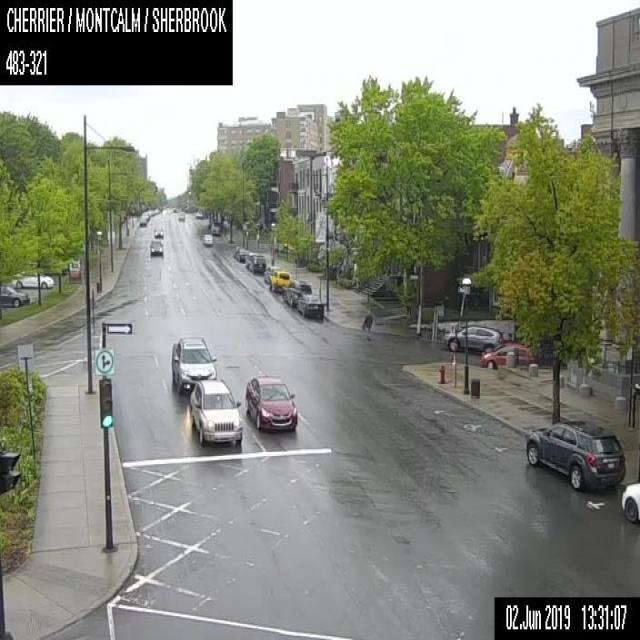pedestrian: (360, 309, 372, 342)
vehicle: (524, 417, 626, 492), (188, 377, 242, 447), (245, 374, 297, 431), (171, 335, 217, 395), (442, 322, 502, 353), (480, 342, 538, 368), (620, 476, 639, 521), (11, 268, 54, 287), (282, 280, 311, 305), (0, 284, 29, 307), (297, 294, 324, 316), (269, 269, 290, 292), (248, 254, 265, 273), (264, 265, 280, 283), (149, 238, 163, 255), (235, 247, 248, 262), (245, 252, 257, 267), (210, 220, 220, 235), (202, 233, 212, 245), (153, 226, 163, 237), (232, 244, 239, 257), (137, 217, 146, 226), (195, 210, 203, 218), (141, 212, 149, 220), (177, 212, 185, 220), (172, 207, 176, 212)
